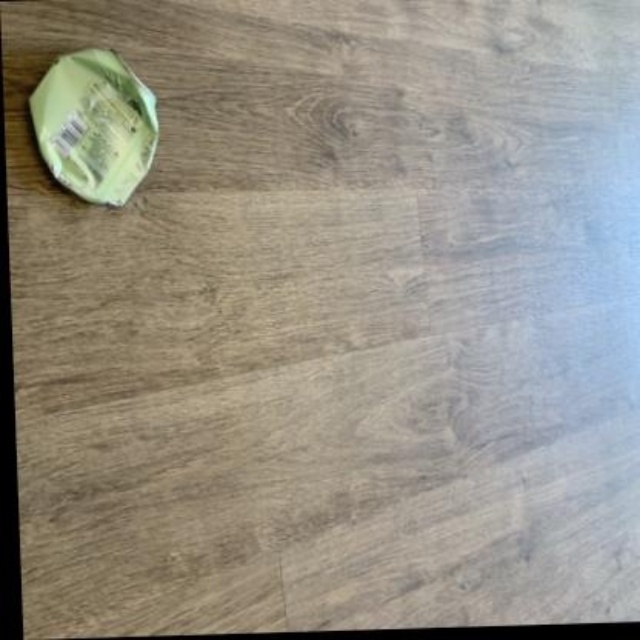trash: (29, 49, 157, 205)
